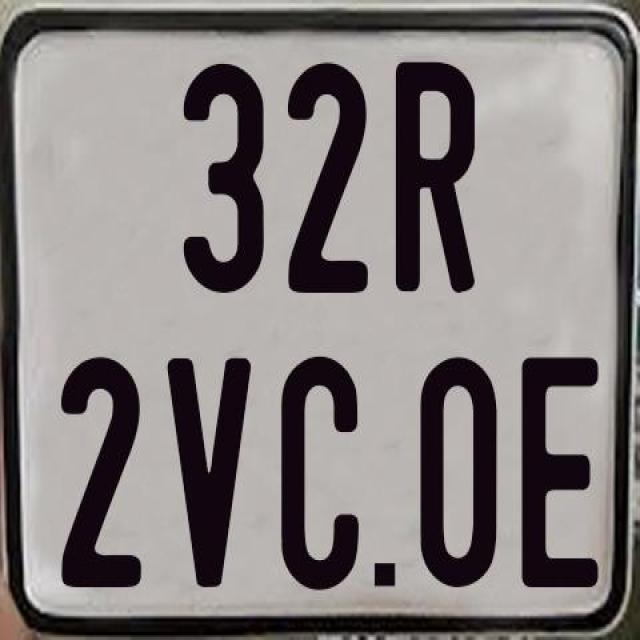0: (418, 353, 496, 584)
2: (288, 62, 371, 296), (58, 356, 138, 594)
3: (184, 64, 267, 301)
C: (281, 354, 367, 596)
E: (518, 354, 602, 586)
V: (164, 356, 254, 594)
